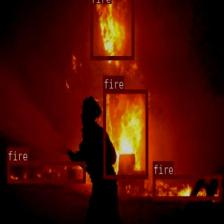fire: (102, 89, 148, 178), (90, 0, 134, 59), (7, 161, 85, 183), (152, 174, 220, 199)
